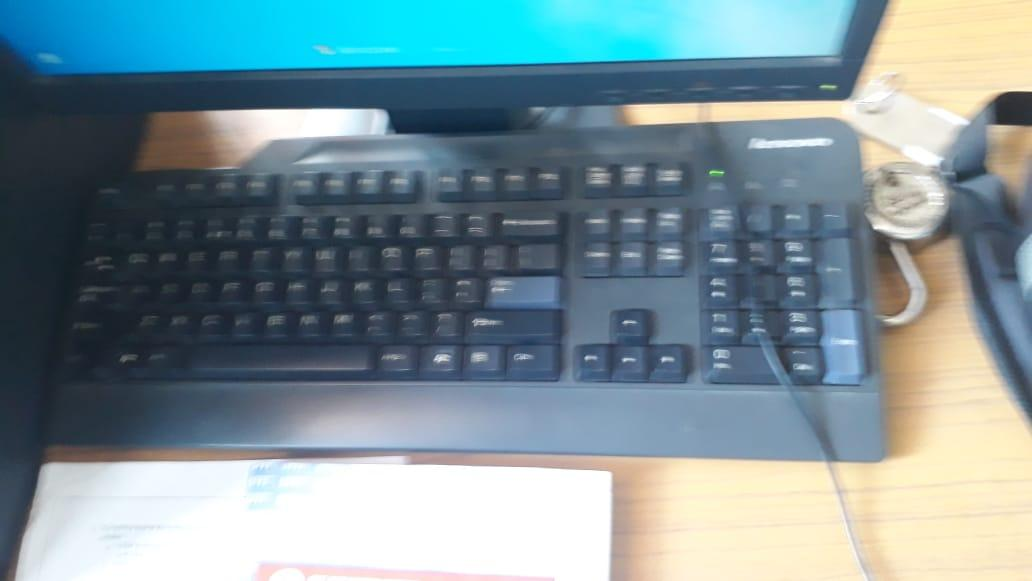keyboard: (30, 111, 921, 495)
